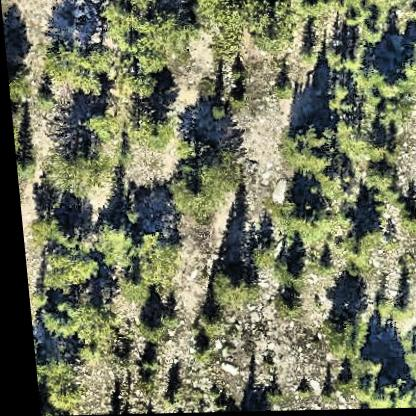tree-top: (109, 5, 188, 78), (29, 215, 97, 293), (42, 34, 109, 99), (40, 143, 112, 202), (123, 232, 179, 305), (165, 163, 228, 226), (367, 66, 416, 128), (243, 6, 296, 61), (29, 356, 76, 415), (205, 266, 257, 316), (279, 118, 327, 171), (87, 222, 132, 277), (124, 109, 173, 156), (40, 300, 89, 338), (283, 197, 326, 239), (338, 224, 383, 264), (359, 374, 404, 410), (340, 131, 385, 166), (312, 317, 353, 353), (189, 0, 235, 29), (70, 109, 103, 145), (5, 66, 34, 101), (136, 312, 167, 344), (362, 169, 393, 200), (350, 350, 381, 380), (325, 48, 359, 74), (268, 258, 297, 288), (397, 203, 416, 248), (12, 153, 37, 186), (270, 293, 292, 327), (360, 21, 385, 44), (405, 338, 416, 379), (301, 0, 331, 15)
